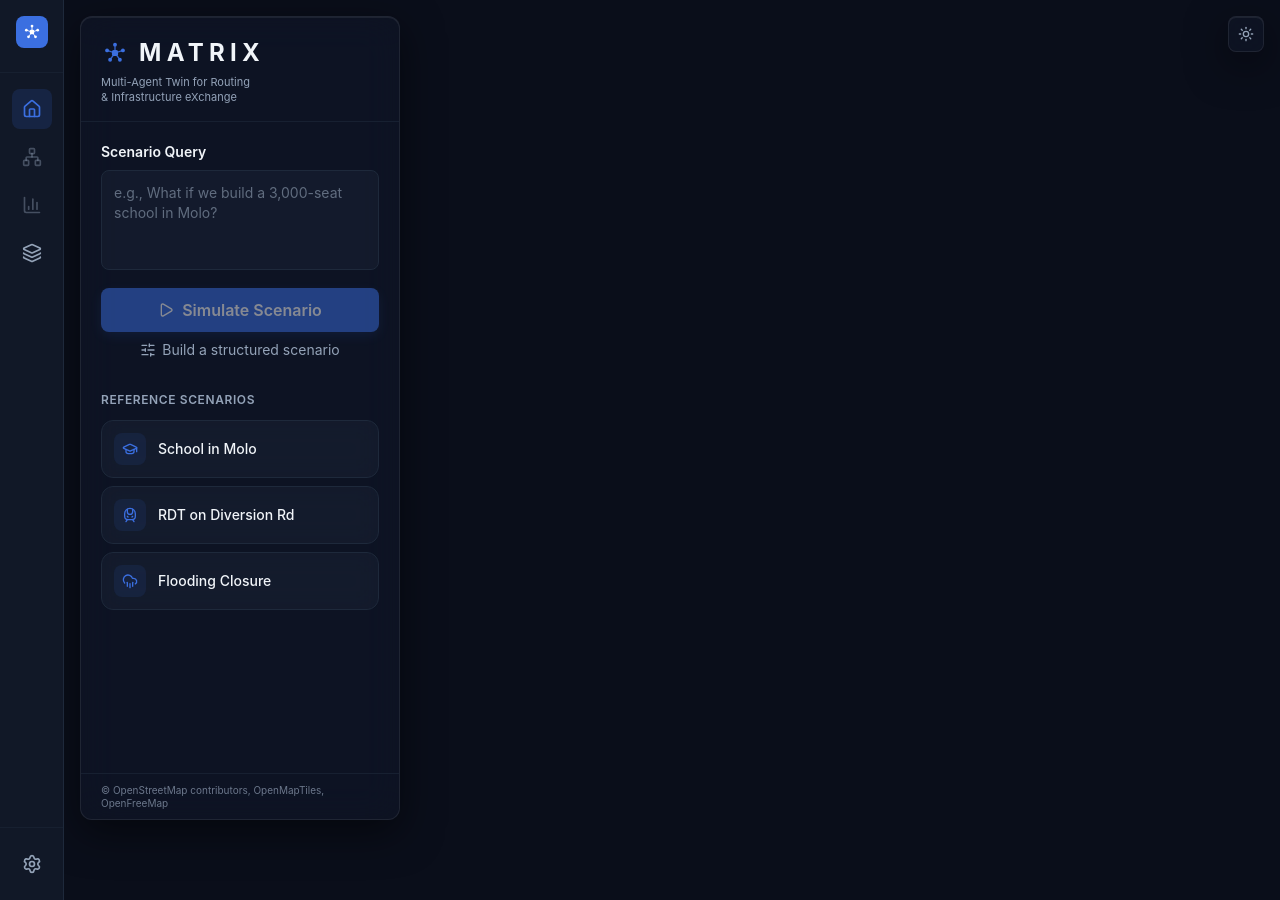
Test: MatrixCockpit scenario submission › renders the clarification message inline on a 400 ambiguous response
Step 1. Type "do something somewhere" into the text box labelled "Scenario Query" → (240, 220), box 101,170 -> 379,270
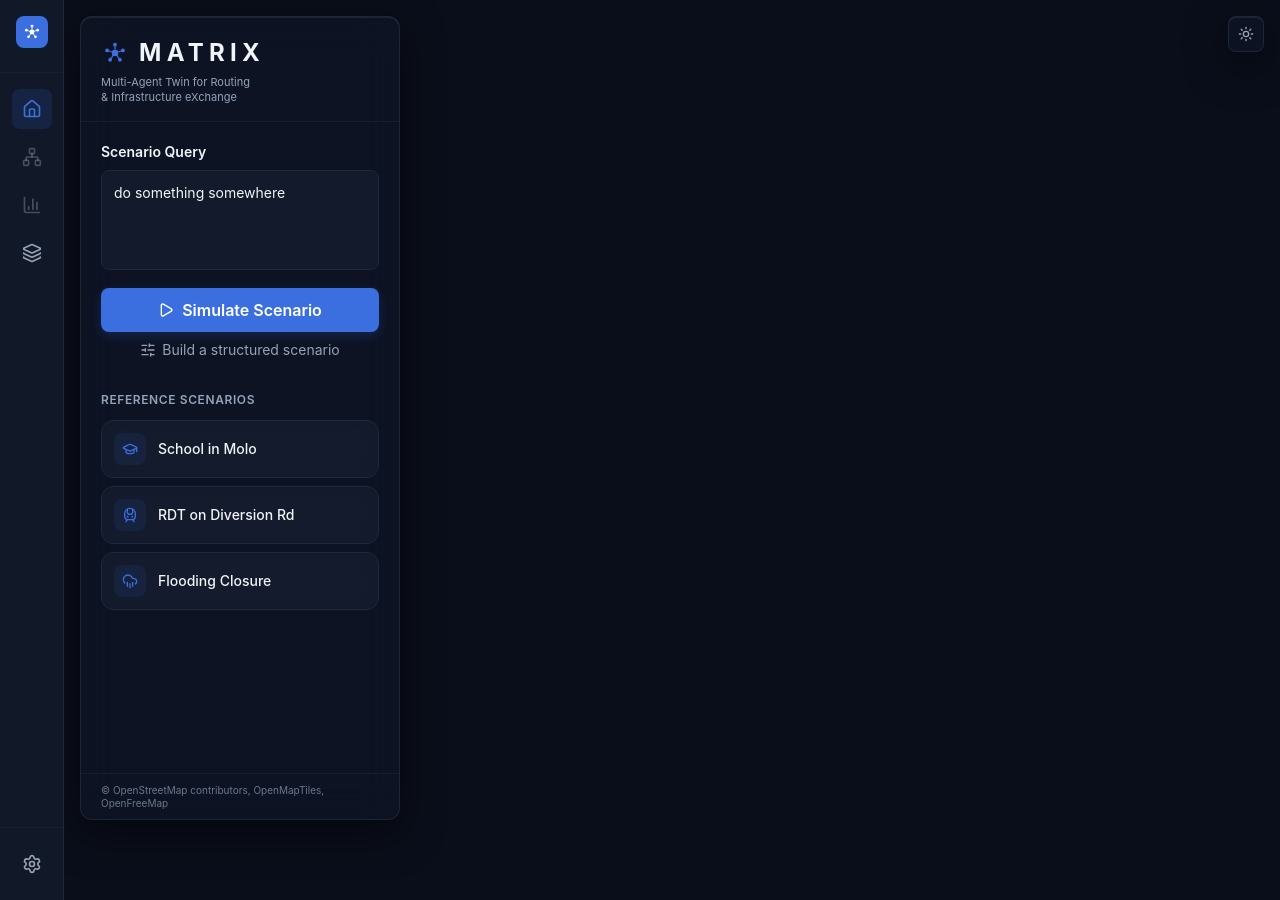
Step 2. Click the button "Simulate Scenario" → click(240, 310), box 101,288 -> 379,332
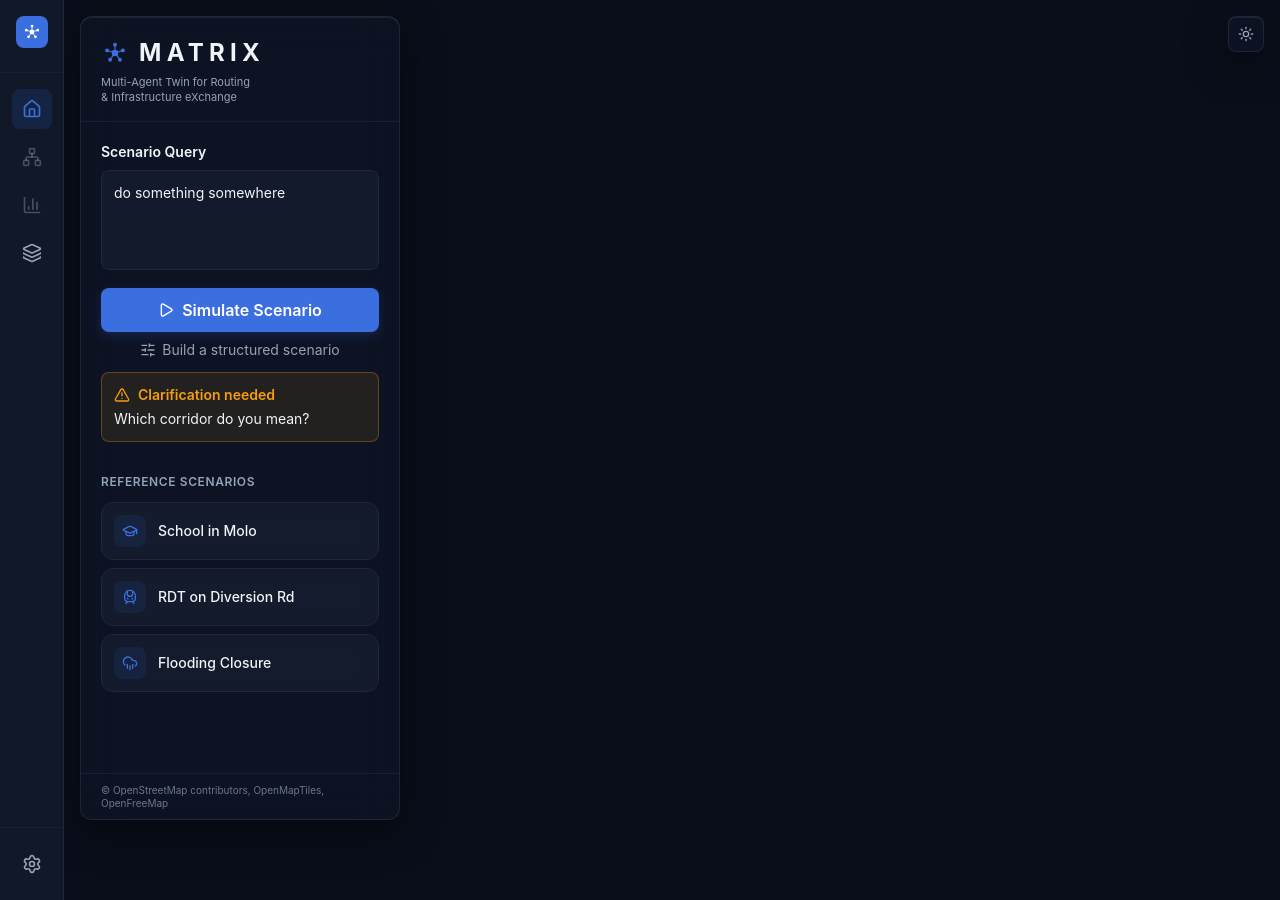
Expected: the text "Which corridor do you mean?" is shown, 114,410 -> 310,427
Expected: the text "Clarification needed" is shown, 114,386 -> 275,403
